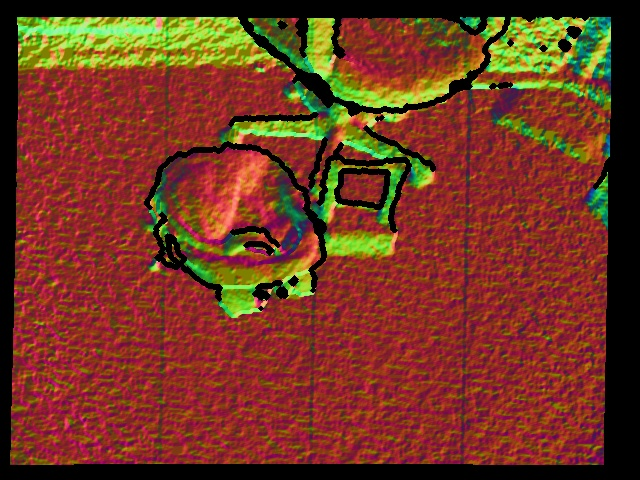station: (322, 158, 404, 260)
